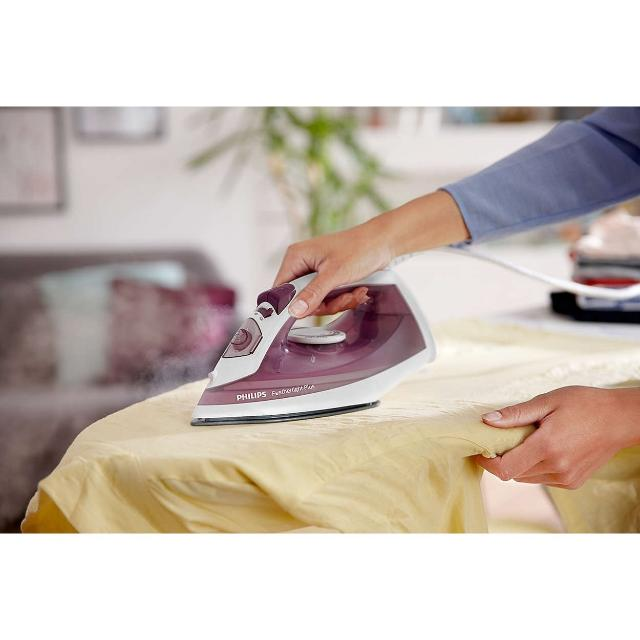Clothes-Iron: (188, 260, 440, 432)
